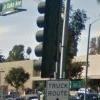Traffic light: (30, 3, 71, 85)
